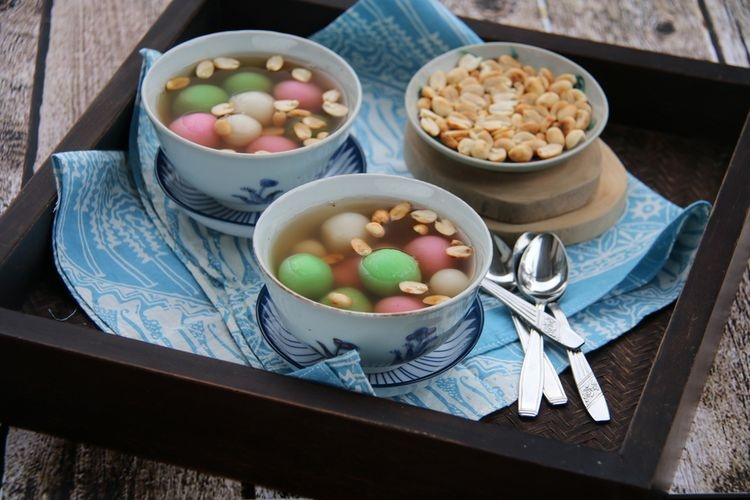ronde: (268, 193, 479, 315), (157, 50, 349, 152)
